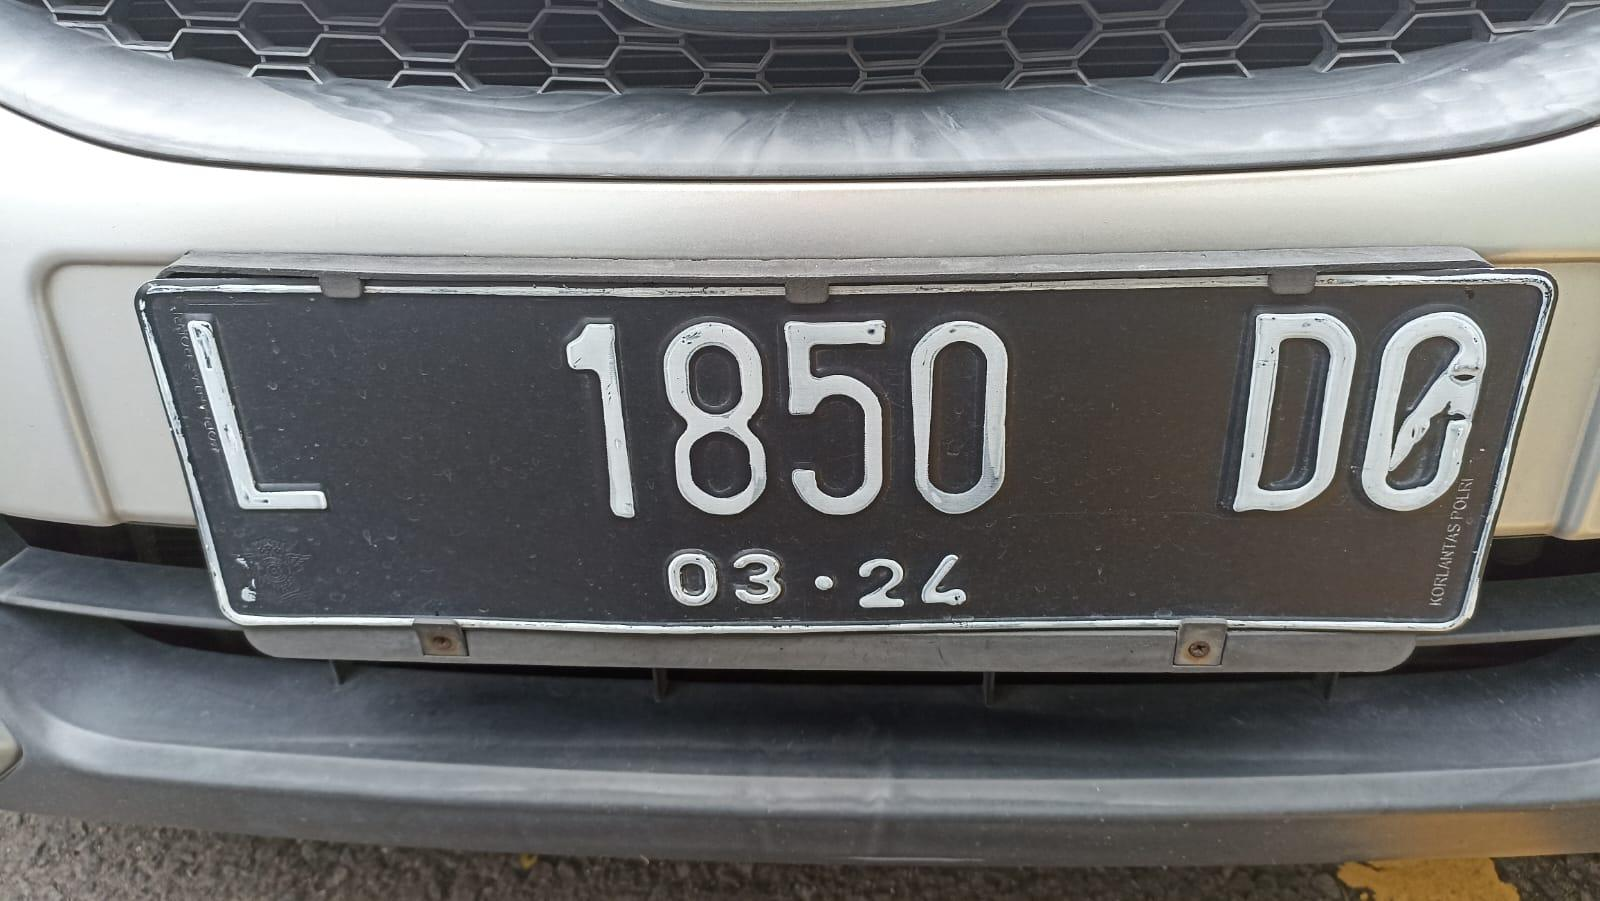plat: (137, 253, 1549, 625)
